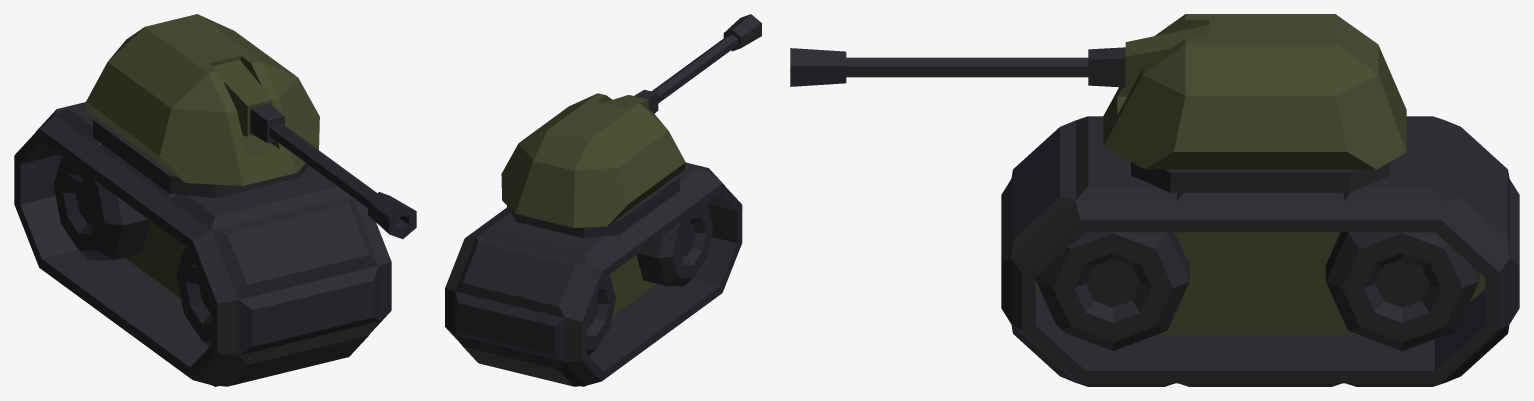
Rendered from LPWarPack_Tonk.fbx.
3 renders of one model, left to right at view 1: azimuth 30°, elevation 25°; view 2: azimuth 150°, elevation 25°; view 3: azimuth 270°, elevation 25°, orthographic. The views are drawn at different scales.
Visible parts, largest first — view 1: Tonk; view 2: Tonk; view 3: Tonk.
Boxes of the visible parts, left/top/right/bottom form: Tonk: left=14, top=14, right=416, bottom=386; Tonk: left=445, top=14, right=761, bottom=386; Tonk: left=790, top=14, right=1519, bottom=386.
Size of the model in its own units: 54 by 81.42 by 167.
